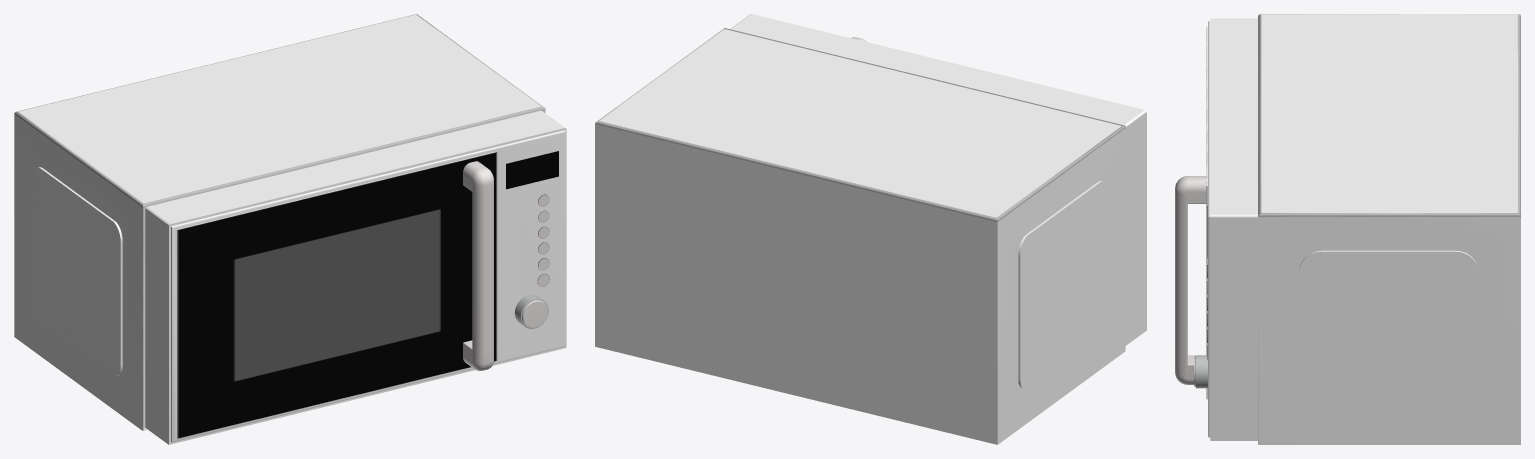
File: microwave measured.glb
3 views of the same model, side by side, from view 1: azimuth 30°, elevation 25°; view 2: azimuth 150°, elevation 25°; view 3: azimuth 270°, elevation 25° (orthographic). The views are drawn at different scales.
Parts seen in each view (by area): view 1: pCube1, pCube3, pCube2, pCylinder7; view 2: pCube1; view 3: pCube1, pCube3, pCylinder7.
Part boxes in pixels (x1=…): pCube1: x1=14, y1=14, x2=566, y2=444; pCube3: x1=463, y1=161, x2=493, y2=370; pCube2: x1=506, y1=151, x2=558, y2=189; pCylinder7: x1=514, y1=294, x2=548, y2=328; pCube1: x1=595, y1=14, x2=1146, y2=444; pCube1: x1=1206, y1=14, x2=1520, y2=444; pCube3: x1=1175, y1=176, x2=1206, y2=384; pCylinder7: x1=1194, y1=355, x2=1207, y2=388.
Size of the model in its own units: 0.5751 by 0.3049 by 0.4141.
Materials: 1 (1 with a texture image).
